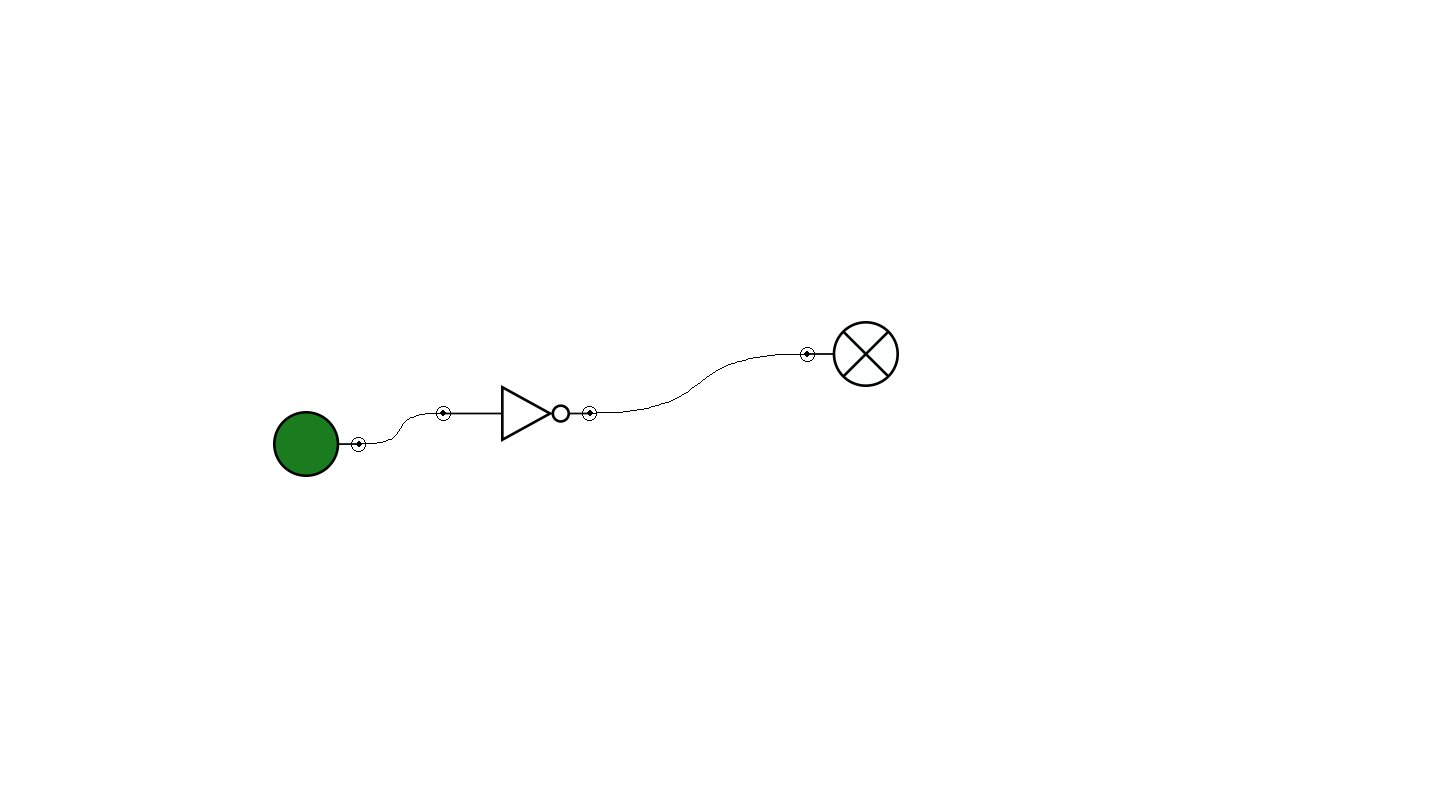bulb: (800, 321, 899, 387)
not: (436, 385, 597, 442)
switch_True: (273, 411, 366, 477)
